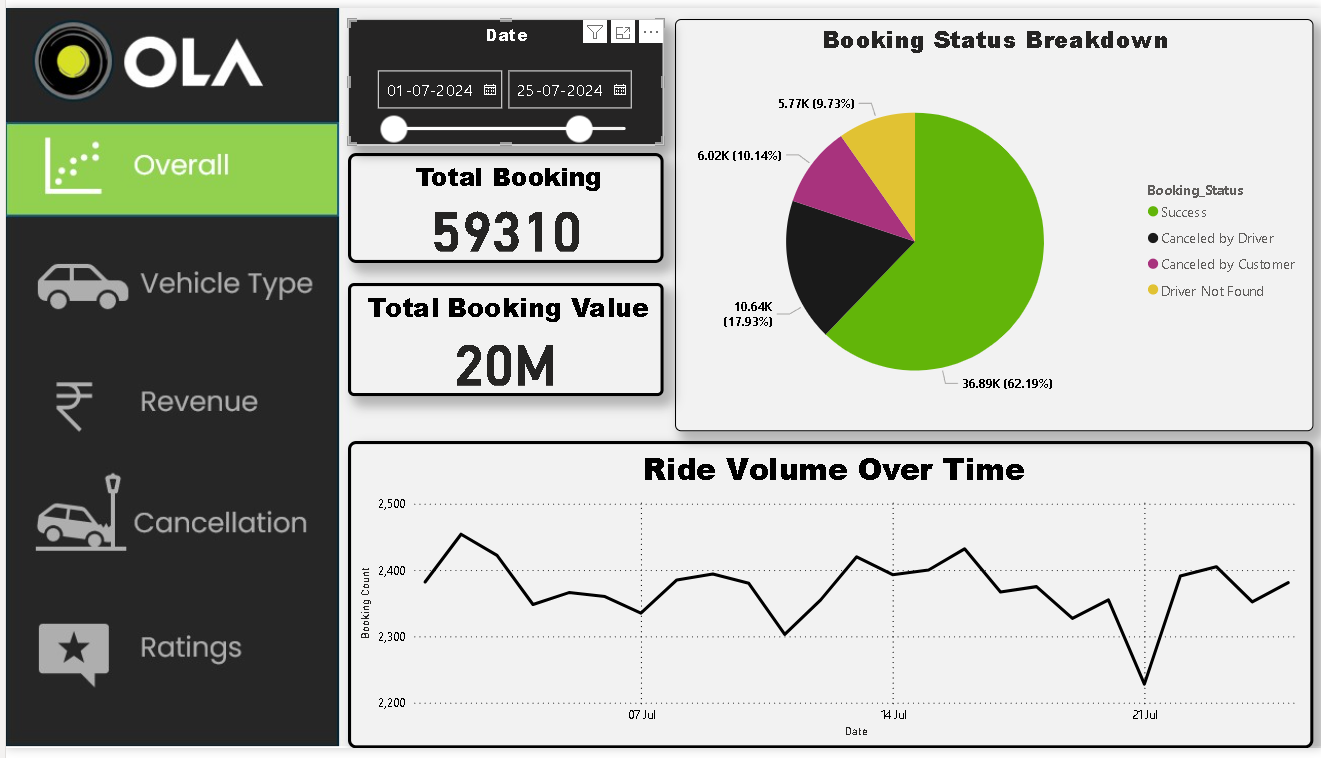

What the dashboard file says about the page in this screenshot:
{"tool":"powerbi","page":{"name":"Overall","canvas":[1280,720],"ordinal":0},"visuals":[{"type":"actionButton","box":[0,223,324.9,89.6],"z":0},{"type":"actionButton","box":[0,342.4,324.9,89.6],"z":1000},{"type":"actionButton","box":[0,447.8,324.9,89.6],"z":2000},{"type":"actionButton","box":[0,583,324.9,89.6],"z":3000},{"type":"lineChart","title":"Ride Volume Over Time","fields":{"Category":["July.Date"],"Y":["CountNonNull(July.Booking_ID)"]},"box":[333.1,421.1,938.5,298.5],"z":4000},{"type":"pieChart","title":"Booking Status Breakdown","fields":{"Category":["July.Booking_Status"],"Y":["CountNonNull(July.Booking_Status)"]},"box":[650.5,10.5,621.1,401.2],"z":5000},{"type":"slicer","title":"Date","fields":{"Values":["July.Date"]},"box":[333.1,10.5,306.9,122.6],"z":6000},{"type":"card","title":"Total Booking","fields":{"Values":["CountNonNull(July.Booking_ID)"]},"box":[333.1,141.3,306.9,106.7],"z":7000},{"type":"card","title":"Total Booking Value","fields":{"Values":["Sum(July.Booking_Value)"]},"box":[332.6,267.5,307.4,109.9],"z":8000}]}

Visuals, with their boxes in screenshot pixels (x1, y1, x2, y2), scaled from the page's 1280x720 canvas onto the 1321x758 screenshot:
actionButton: [0, 235, 335, 329]
actionButton: [0, 360, 335, 455]
actionButton: [0, 471, 335, 566]
actionButton: [0, 614, 335, 708]
"Ride Volume Over Time" lineChart: [344, 443, 1312, 757]
"Booking Status Breakdown" pieChart: [671, 11, 1312, 433]
"Date" slicer: [344, 11, 660, 140]
"Total Booking" card: [344, 149, 660, 261]
"Total Booking Value" card: [343, 282, 660, 397]
